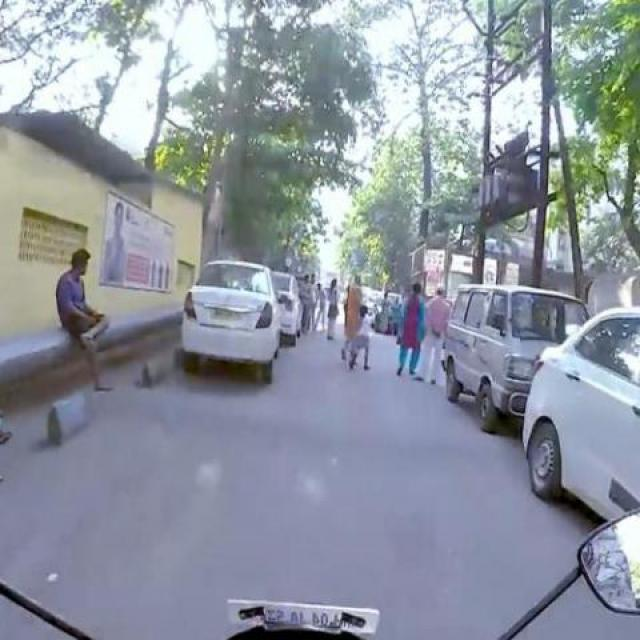Unmarked Bump: (92, 388, 443, 451)
